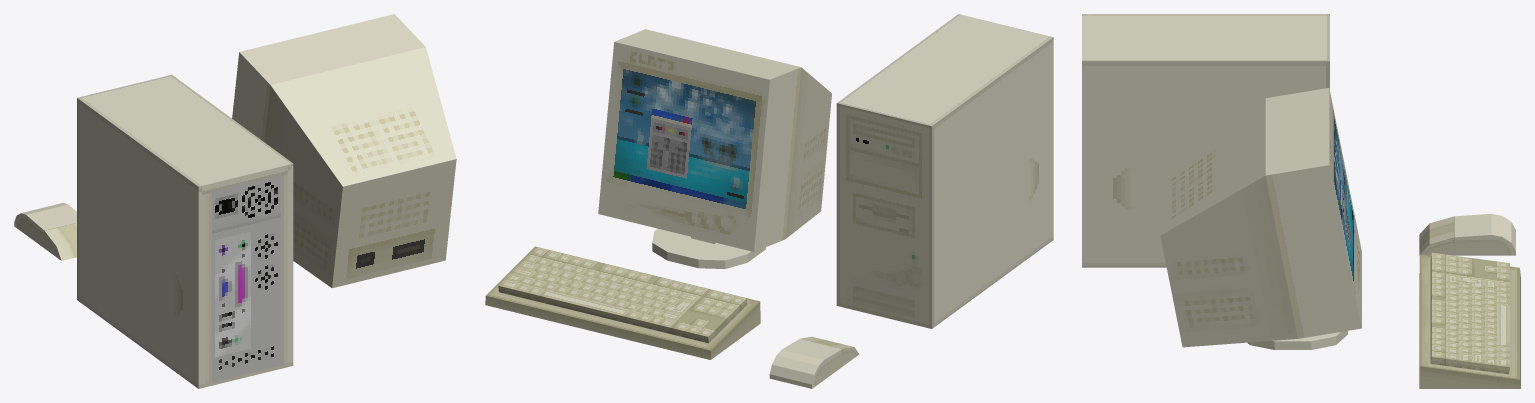
The picture shows the model from 3 angles, left to right: view 1: azimuth 30°, elevation 25°; view 2: azimuth 150°, elevation 25°; view 3: azimuth 270°, elevation 25°; orthographic projection. The views are drawn at different scales.
Parts seen in each view (by area): view 1: Case, MonitorOn, Mouse; view 2: Case, MonitorOn, Keyboard, Mouse; view 3: MonitorOn, Case, Keyboard, Mouse.
Part boxes in pixels (left/top/right/bottom): Case: left=77, top=74, right=293, bottom=388; MonitorOn: left=232, top=14, right=456, bottom=288; Mouse: left=14, top=203, right=76, bottom=260; Case: left=836, top=14, right=1053, bottom=328; MonitorOn: left=598, top=29, right=831, bottom=268; Keyboard: left=485, top=246, right=760, bottom=359; Mouse: left=769, top=336, right=859, bottom=388; MonitorOn: left=1160, top=88, right=1361, bottom=349; Case: left=1082, top=14, right=1329, bottom=267; Keyboard: left=1419, top=252, right=1520, bottom=388; Mouse: left=1419, top=213, right=1515, bottom=255.
Size of the model in its own units: 9.64 by 5.46 by 10.2.
4 materials, 4 textured.
